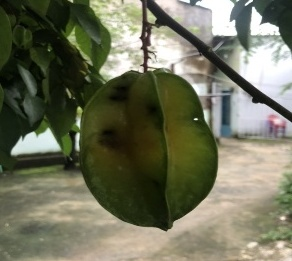Khe: (71, 70, 221, 233)
